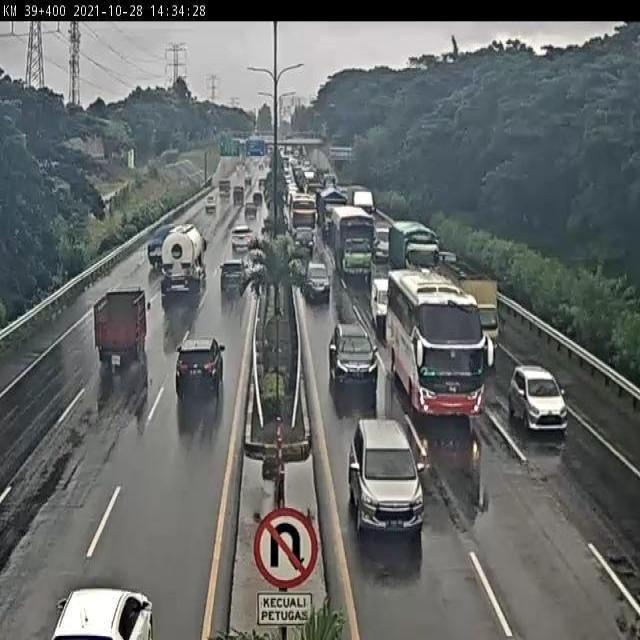Bus: (382, 270, 503, 425)
Car: (354, 417, 421, 543), (58, 574, 157, 634), (510, 356, 566, 434), (329, 312, 376, 390), (172, 334, 227, 398), (216, 254, 254, 303), (223, 222, 256, 262), (366, 280, 391, 330), (303, 262, 333, 298)
Truck: (82, 284, 158, 368), (456, 266, 513, 344), (160, 226, 208, 294), (329, 204, 374, 274), (386, 218, 447, 266), (284, 195, 317, 255), (145, 222, 177, 267)
